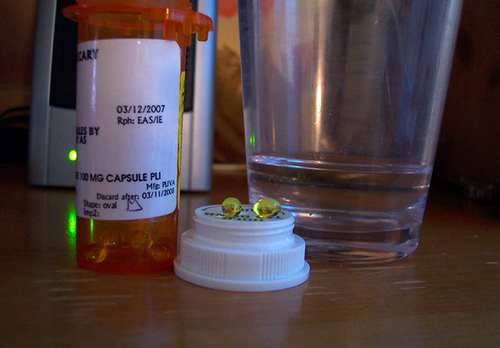pill bottle: (61, 2, 194, 276)
